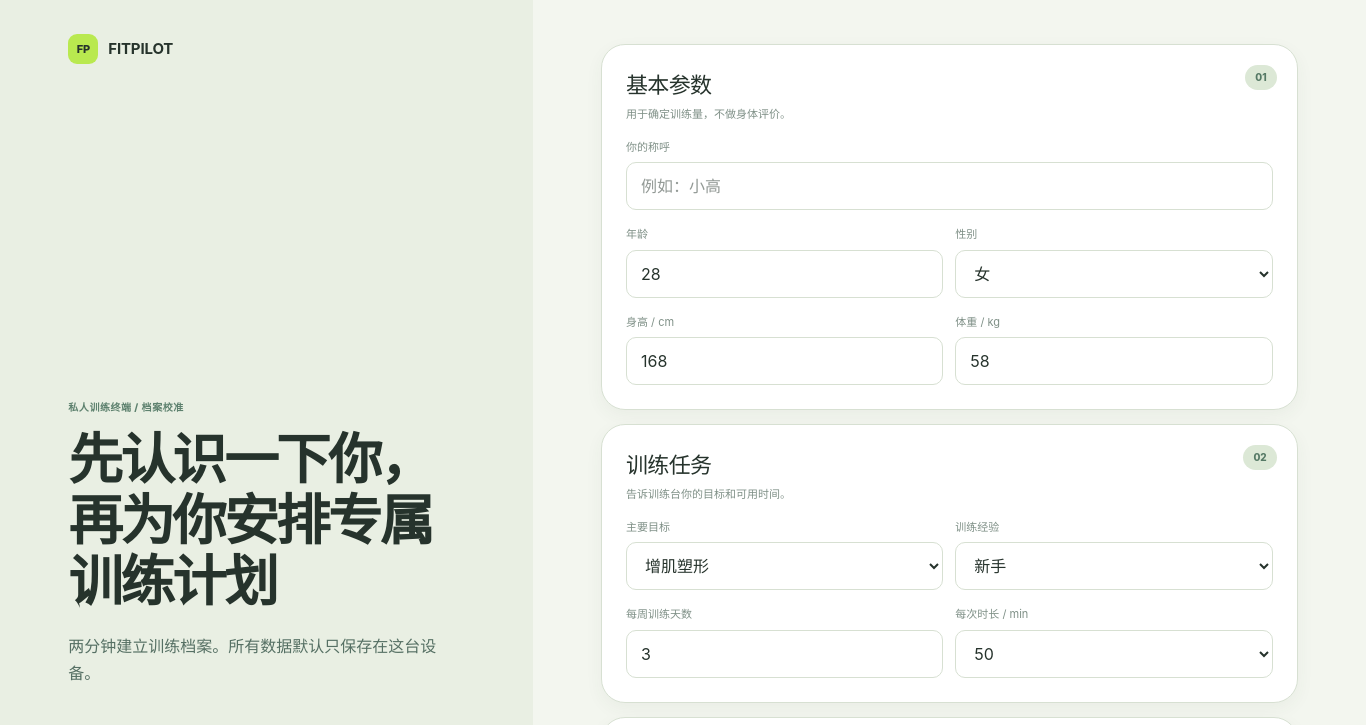
it: OnboardingFlow › rejects training days outside two to five
In the field labelled "你的称呼": (949, 186) top-left (626, 162), bottom-right (1273, 210), type "小驼"
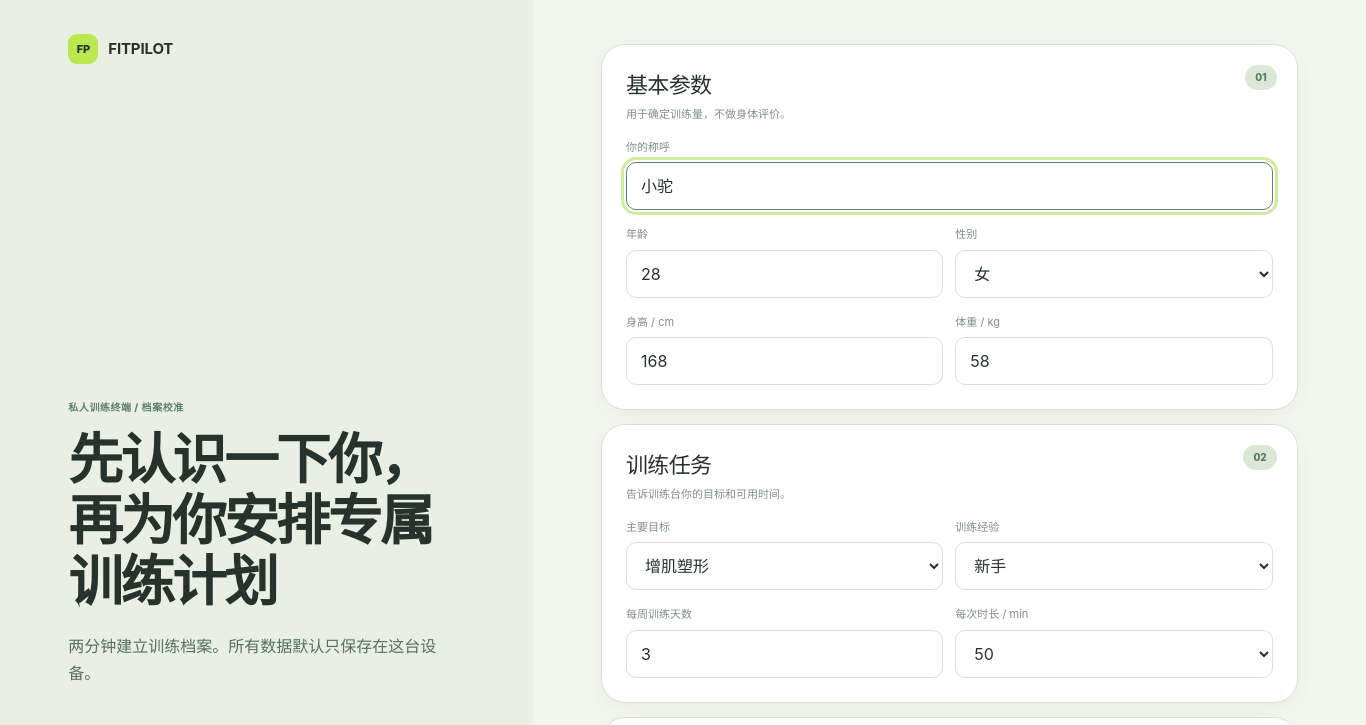
Replace the text in the number field labelled "每周训练天数" with "1": (785, 654) top-left (626, 630), bottom-right (943, 678)
(page scrolled)
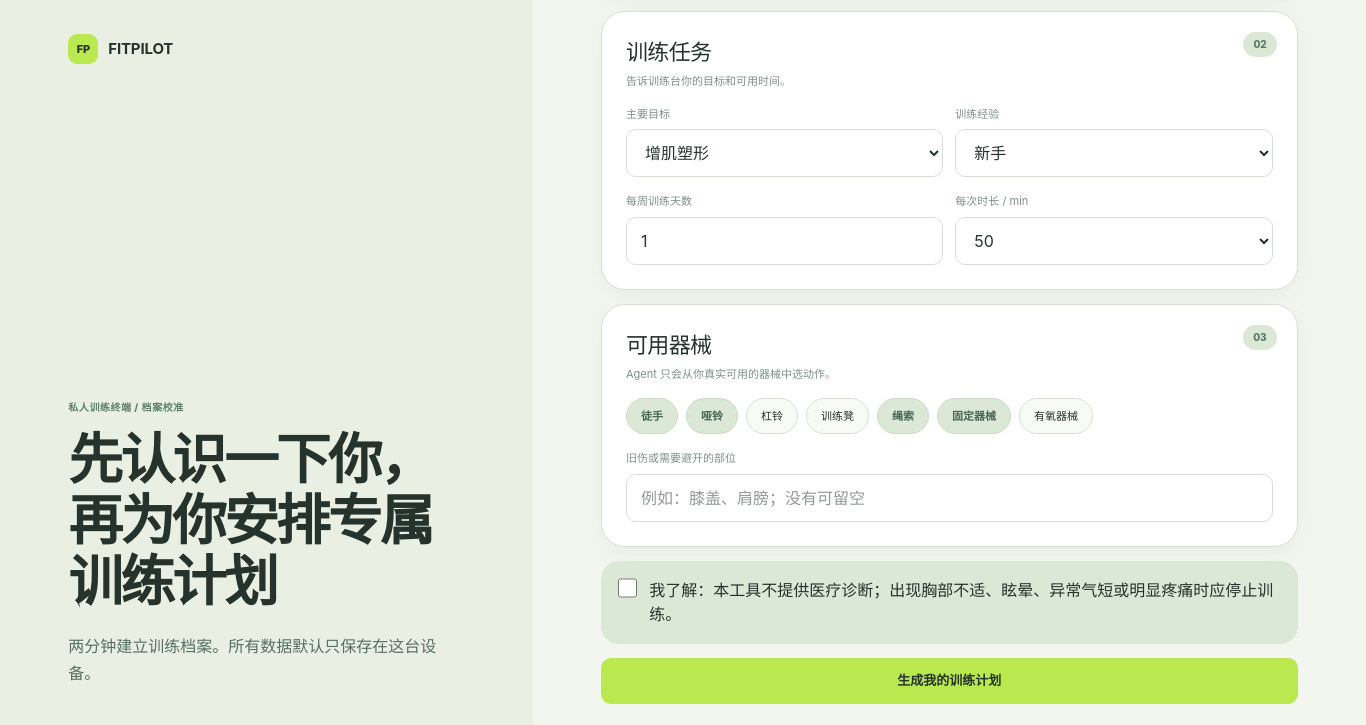
Click the checkbox labelled "我了解：本工具不提供医疗诊断；出现胸部不适、眩晕、异常气短或明显疼痛时应停止训练。": (628, 588) top-left (618, 578), bottom-right (637, 598)
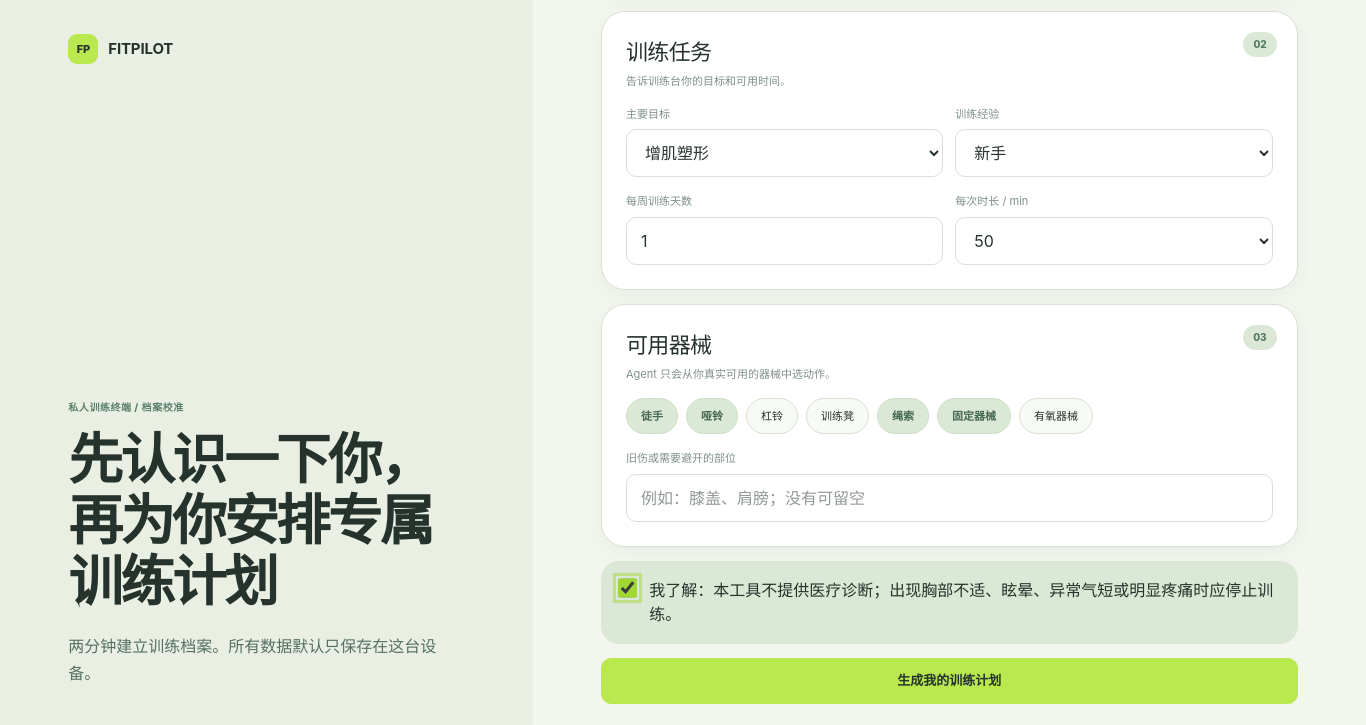
Click the button "生成我的训练计划": (949, 681) top-left (601, 658), bottom-right (1298, 704)
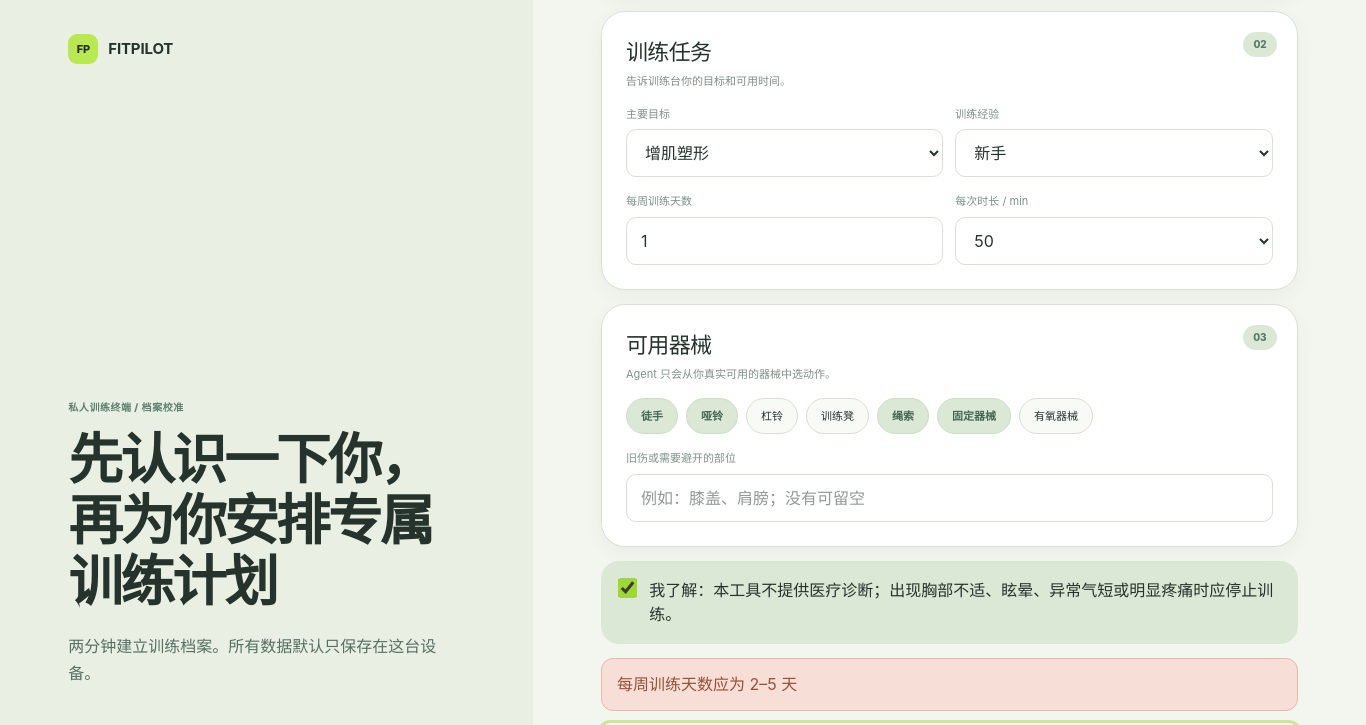
Expected: the text "每周训练天数应为 2–5 天" is shown, top-left (601, 658), bottom-right (1298, 711)
